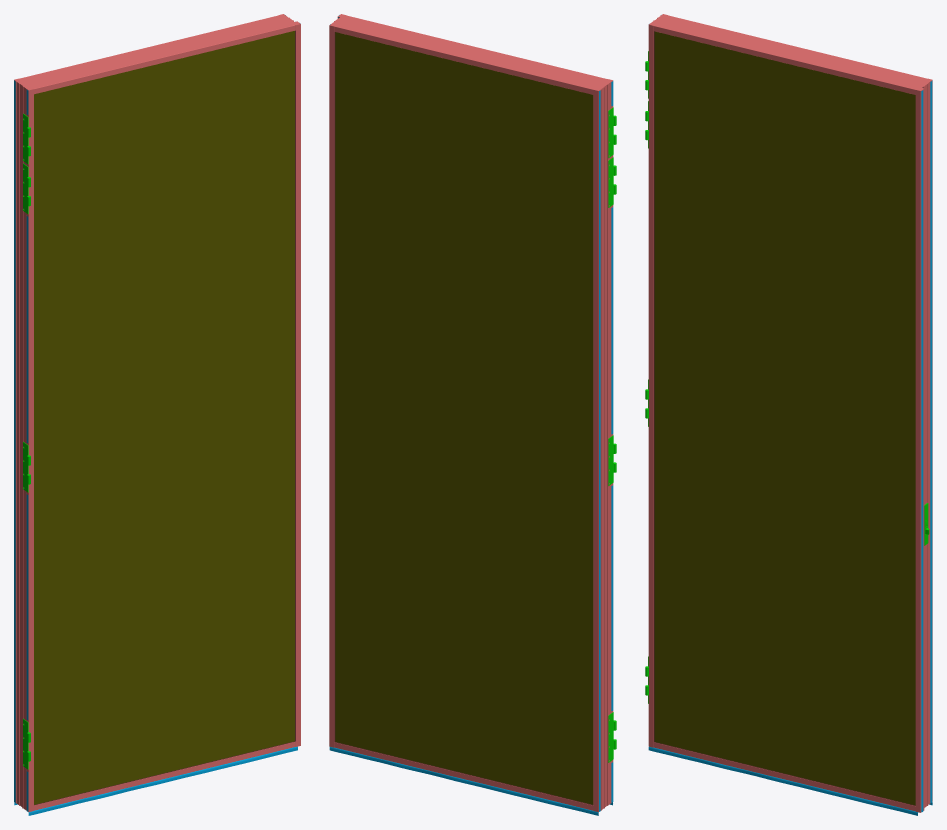
File: Door_01A.fbx
The picture shows the model from 3 angles, left to right: view 1: azimuth 30°, elevation 25°; view 2: azimuth 150°, elevation 25°; view 3: azimuth 330°, elevation 25°; orthographic projection.
Visible parts, largest first — view 1: Door_01A; view 2: Door_01A; view 3: Door_01A.
Part boxes in pixels (<box>): Door_01A: <box>14,14,300,815</box>; Door_01A: <box>329,14,616,815</box>; Door_01A: <box>645,14,932,815</box>.
Size of what is drawn, in the model's own units: 107 by 269 by 11.16.
